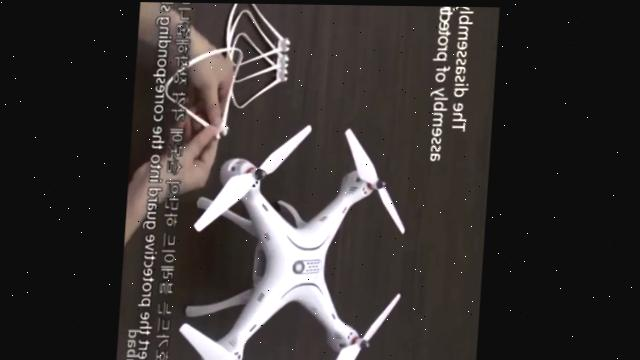drone: (181, 118, 415, 360)
